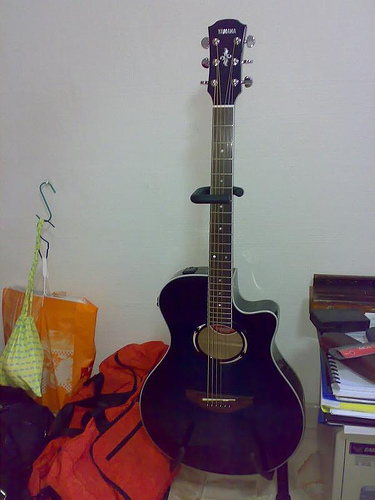guitar: (138, 18, 311, 479)
